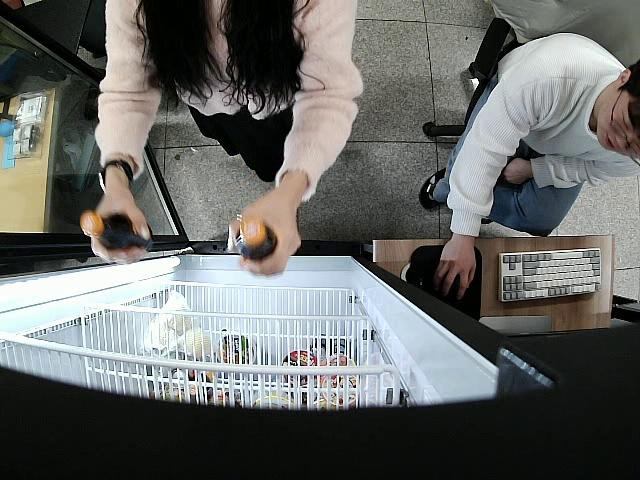00_hand: (227, 195, 301, 278), (91, 193, 151, 265), (437, 242, 477, 301)
17_vita500: (80, 211, 153, 257), (233, 217, 277, 263)
